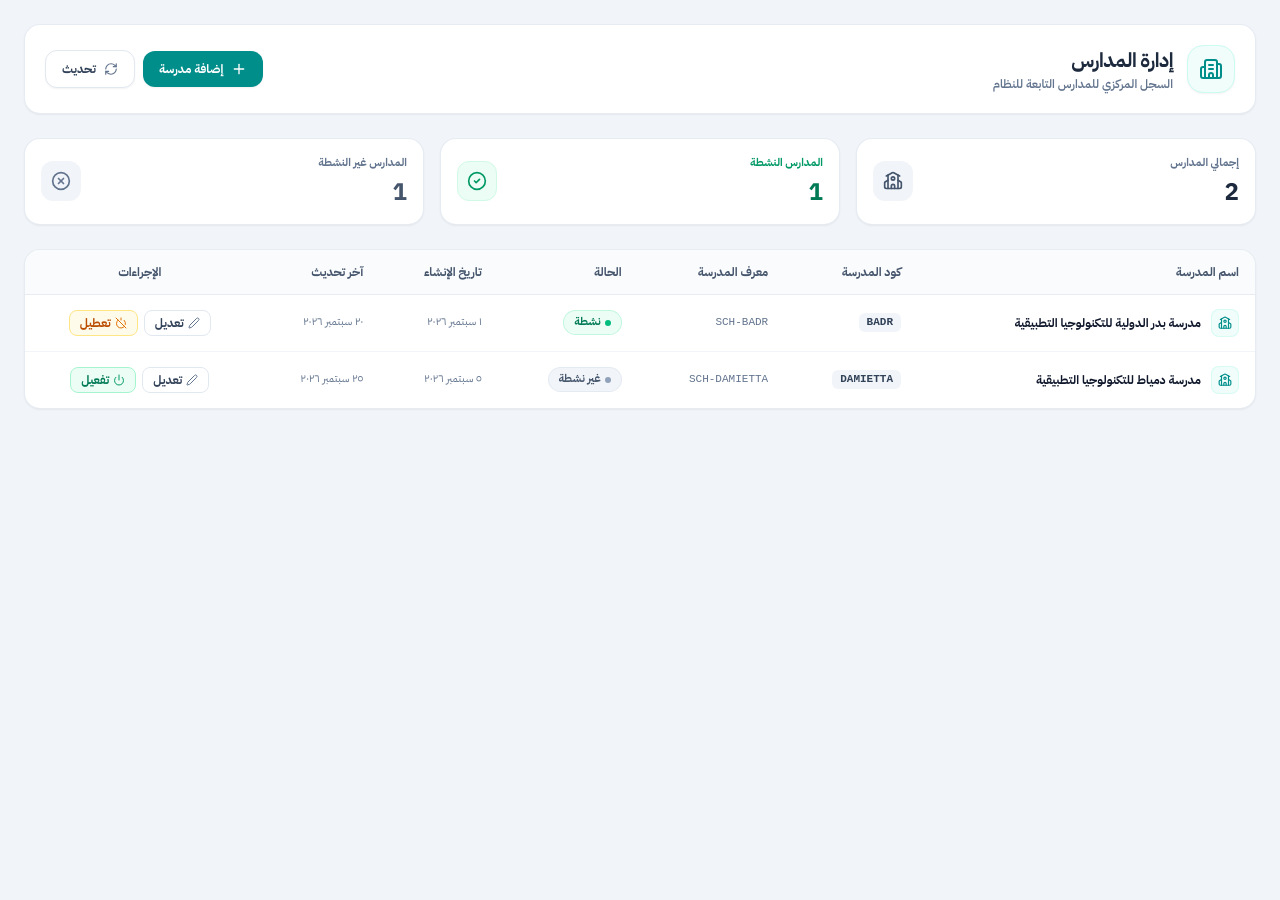
Test case: PHASE 3C-A14.2.2 — SCHOOL CREATE / EDIT / STATUS UI › 2. Create School Workflow › Enforces required validation: empty schoolName or schoolCode shows validation error
This screenshot has width=1280, height=900.
What coordinates should you click on to do the following:
click the button "إضافة مدرسة"
I would click on:
 (203, 69)
Its box is [143,51,263,87].
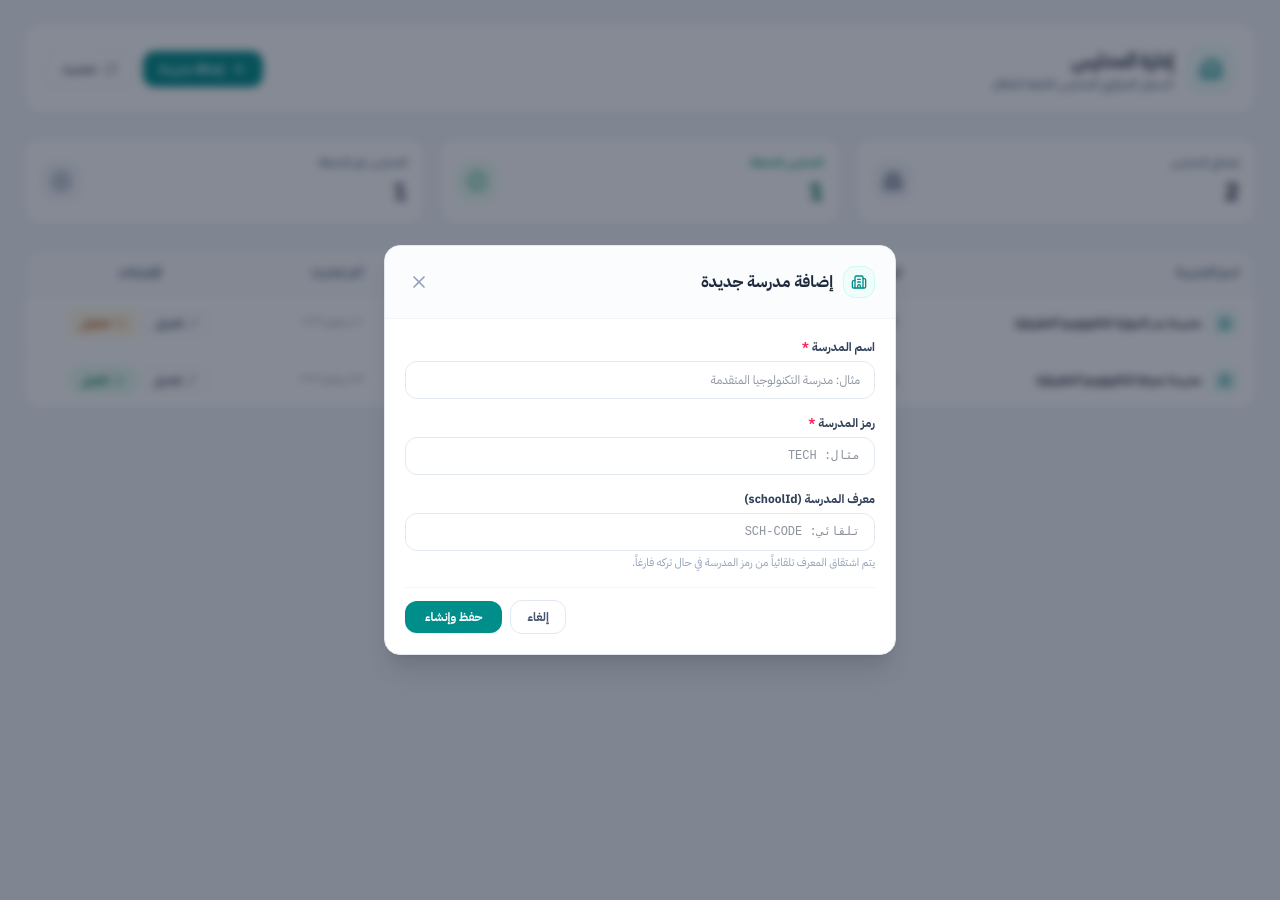
What coordinates should you click on to do the following:
click the button "حفظ وإنشاء"
I would click on:
 (454, 617)
Its box is [405,601,502,633].
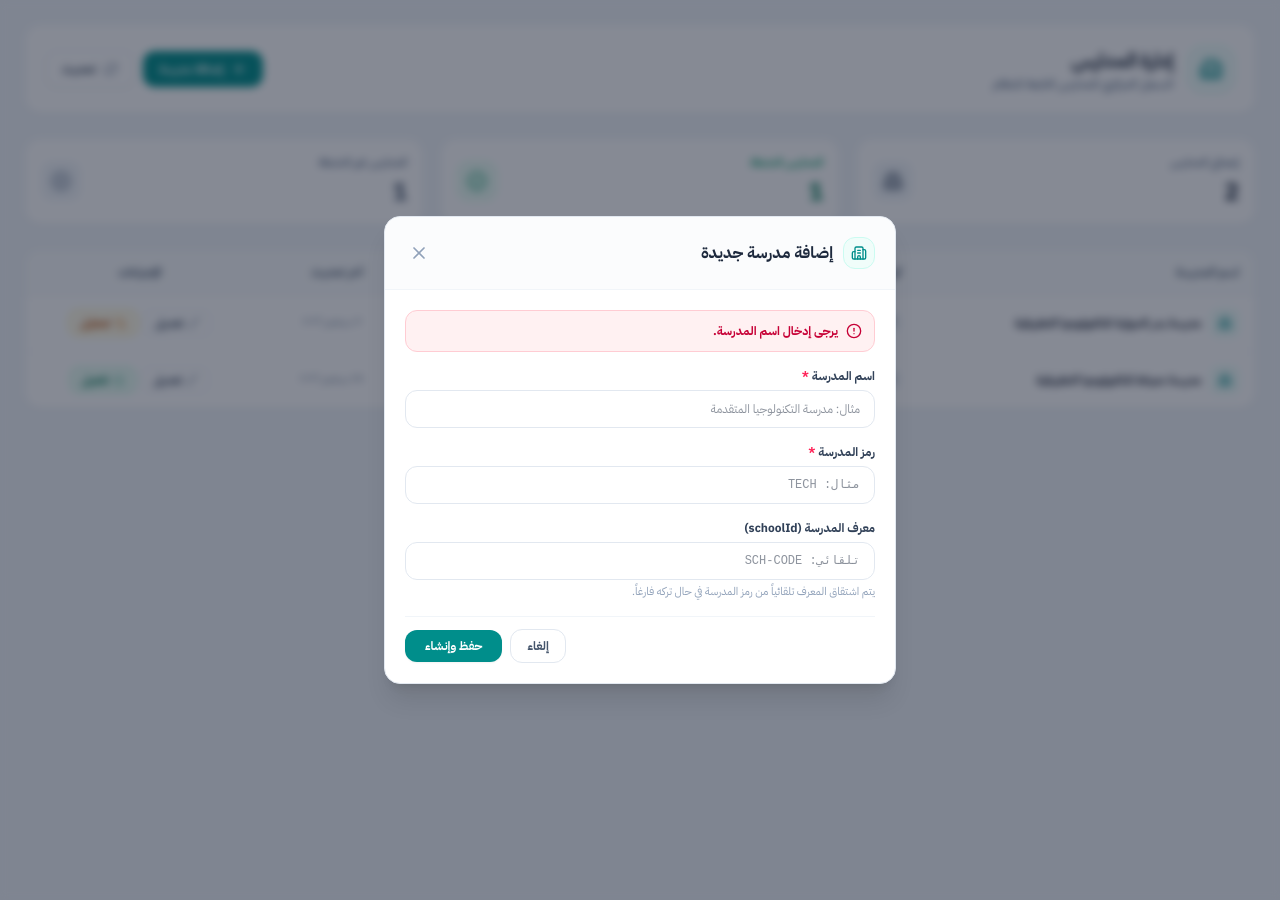
Result: the text "يرجى إدخال اسم المدرسة." is shown at [713,323,838,339]
